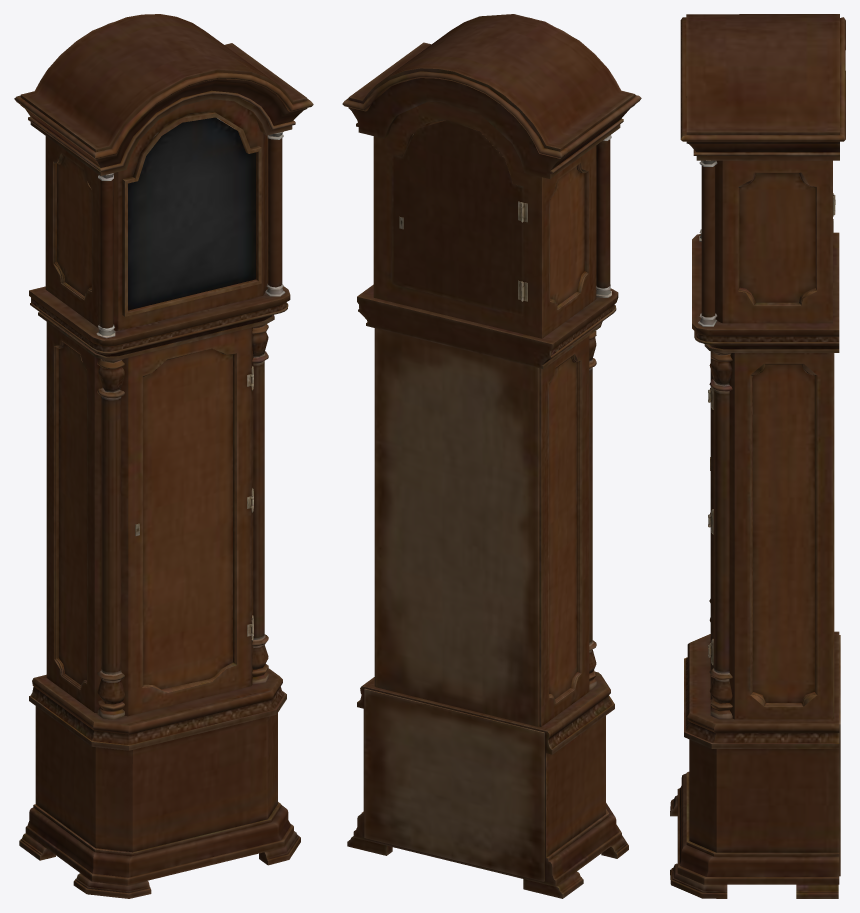
The model's file is x_clock.glb.
The picture shows the model from 3 angles, left to right: view 1: azimuth 30°, elevation 25°; view 2: azimuth 150°, elevation 25°; view 3: azimuth 270°, elevation 25°; orthographic projection. The views are drawn at different scales.
Bounding box in the file's own units: 0.6256 × 2.19 × 0.4266.
2 materials, 2 textured.
